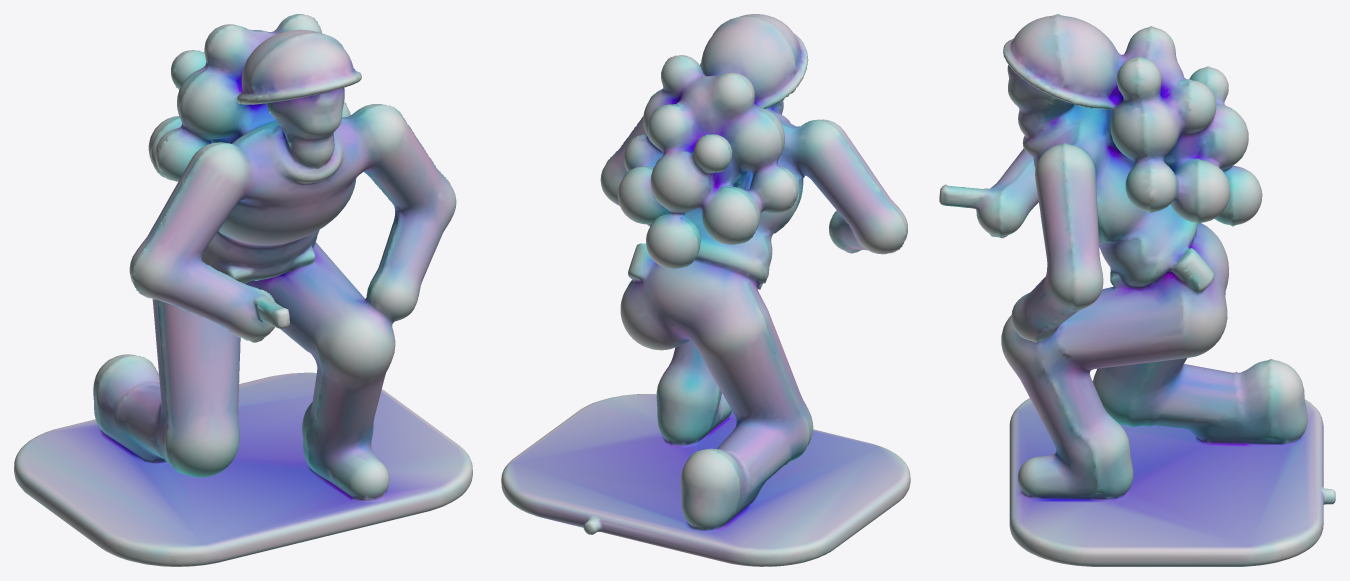
The model's file is spion.glb.
3 renders of one model, left to right at view 1: azimuth 30°, elevation 25°; view 2: azimuth 150°, elevation 25°; view 3: azimuth 270°, elevation 25°, orthographic. The views are drawn at different scales.
Parts seen in each view (by area): view 1: spion; view 2: spion; view 3: spion.
Boxes of the visible parts, left/top/right/bottom form: spion: left=14, top=14, right=472, bottom=566; spion: left=501, top=14, right=910, bottom=566; spion: left=939, top=14, right=1335, bottom=566.
Size of the model in its own units: 0.46 by 0.5898 by 0.4546.
